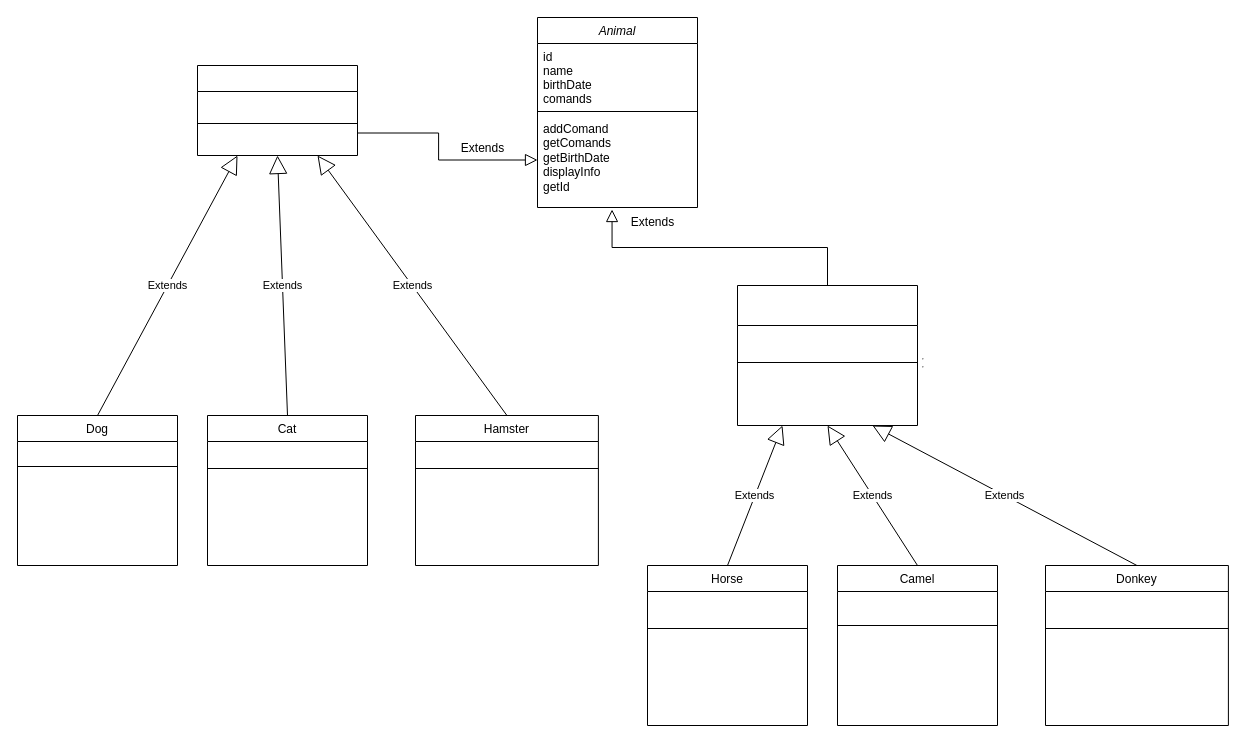
The diagram is 1246 pixels wide and 743 high, and some of its shapes have lost their labels. Each missing label, with the centre of its shape:
"Pack animal" belongs at (827,355).
"Pet" belongs at (277,110).
